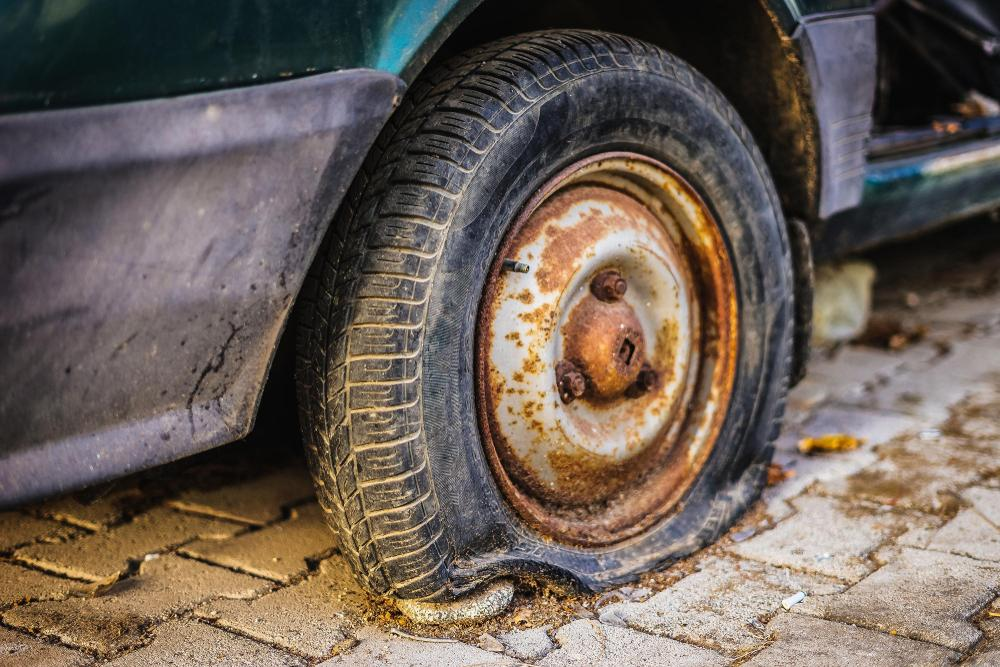tire flat: (296, 28, 802, 608)
